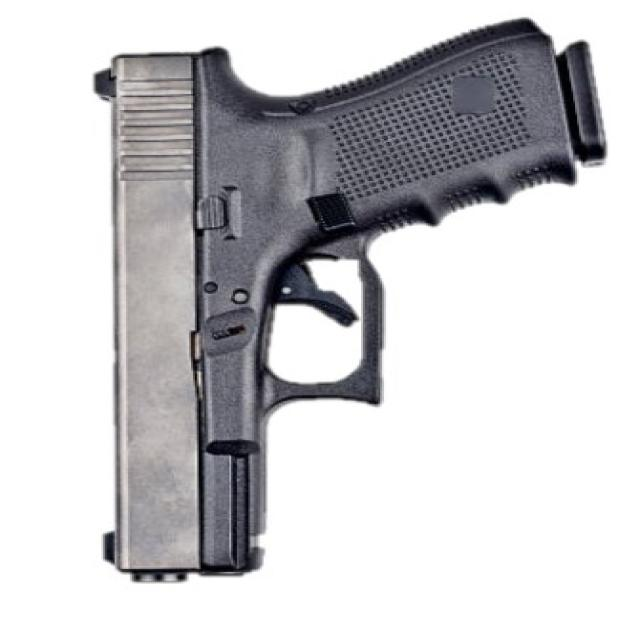pistol: (69, 8, 617, 587)
